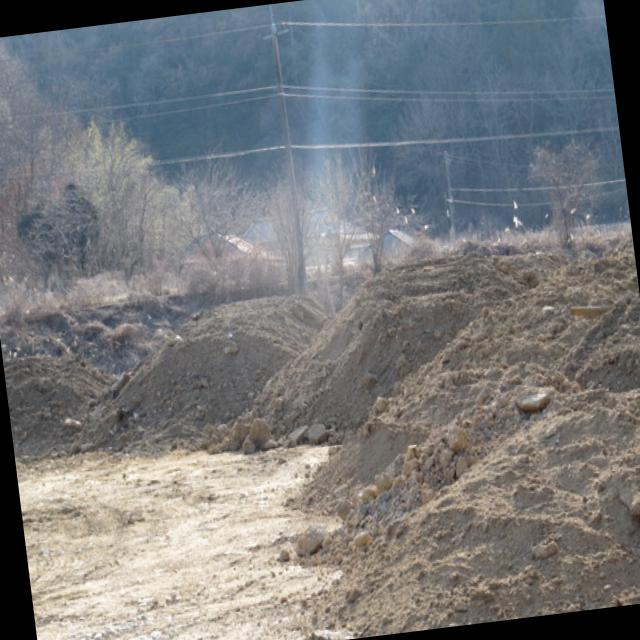red-sand: (3, 234, 640, 637)
white-sand: (16, 448, 350, 640)
